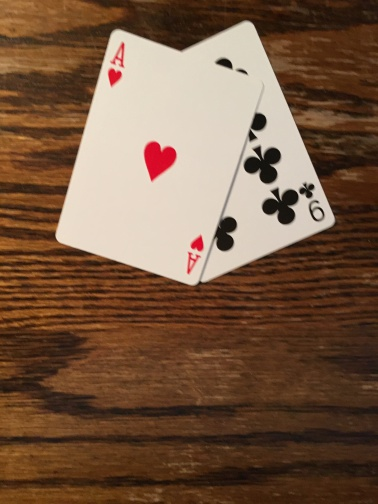ace: (56, 28, 261, 287)
nine: (202, 18, 335, 287)
